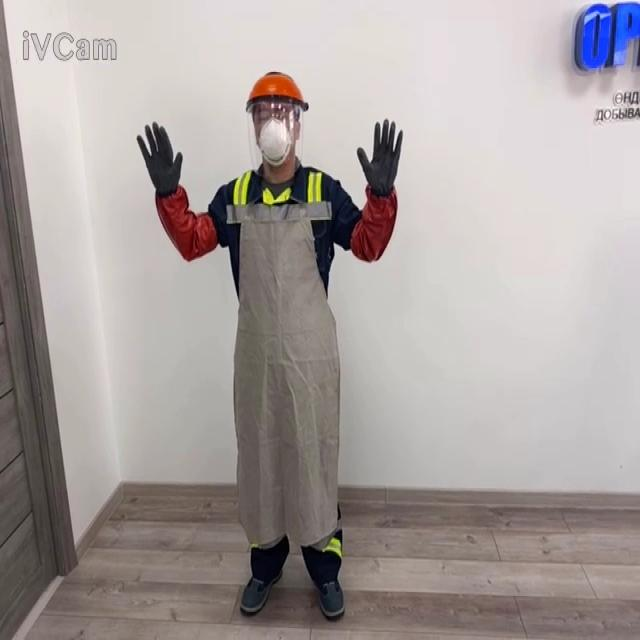Gloves: (356, 118, 403, 198), (136, 120, 182, 197)
Mask: (246, 102, 301, 170)
Protective apron: (225, 174, 341, 550)
Safety Shoes: (239, 568, 283, 613), (316, 578, 344, 618)
Sleeve: (154, 184, 218, 261), (350, 182, 397, 262)
